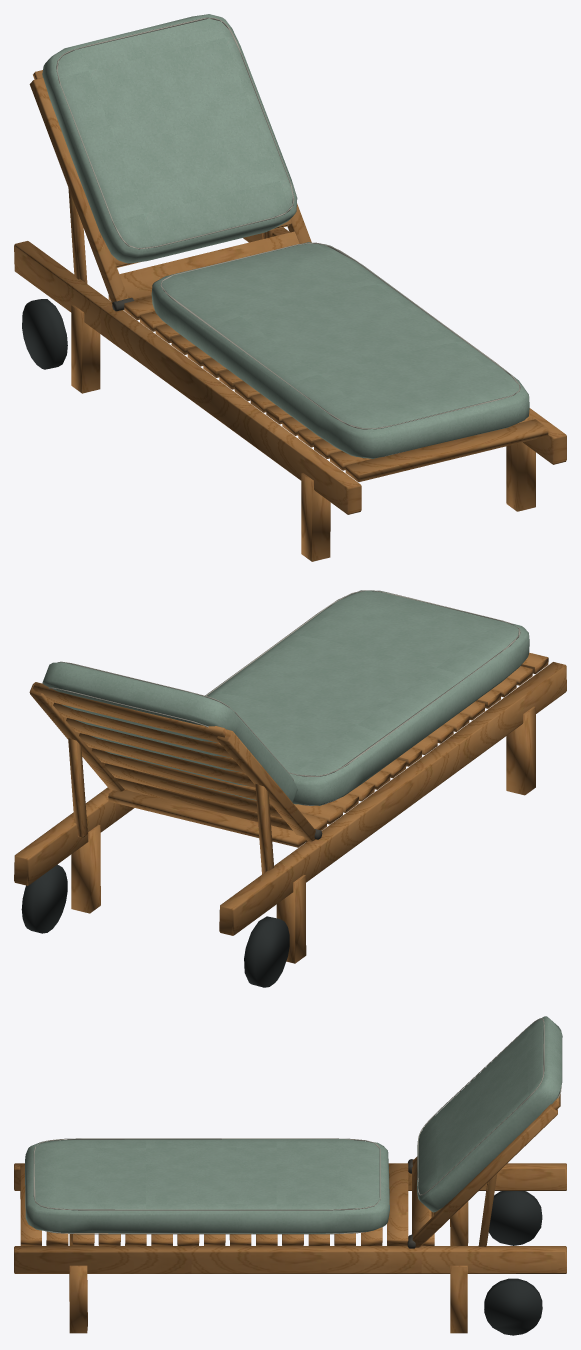
File: lounger.glb
3 views of the same model, one above another, from view 1: azimuth 30°, elevation 25°; view 2: azimuth 150°, elevation 25°; view 3: azimuth 270°, elevation 25° (orthographic). The views are drawn at different scales.
Parts seen in each view (by area): view 1: sun-lounger — STATIC material batch; view 2: sun-lounger — STATIC material batch; view 3: sun-lounger — STATIC material batch.
Part boxes in pixels (x1,y1,x2,y2): sun-lounger — STATIC material batch: [14, 14, 566, 561]; sun-lounger — STATIC material batch: [14, 590, 566, 987]; sun-lounger — STATIC material batch: [14, 1016, 566, 1335].
Size of the model in its own units: 0.7751 by 0.9287 by 1.92.
5 materials, 2 textured.
